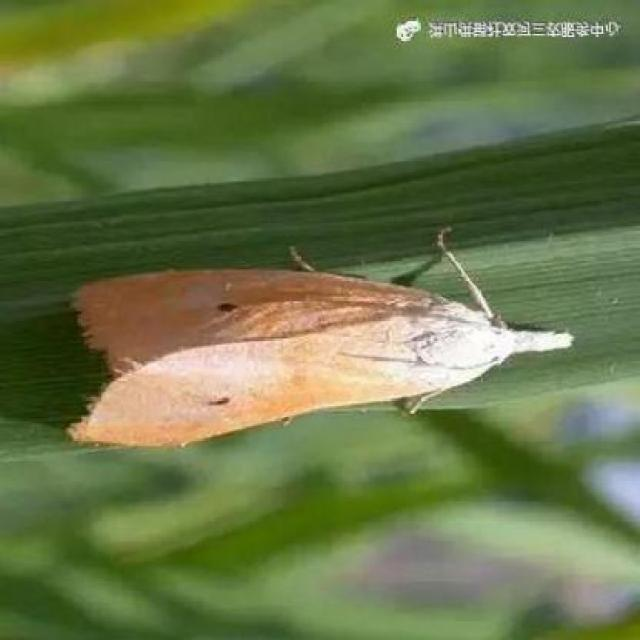stem-borer: (64, 252, 578, 454)
